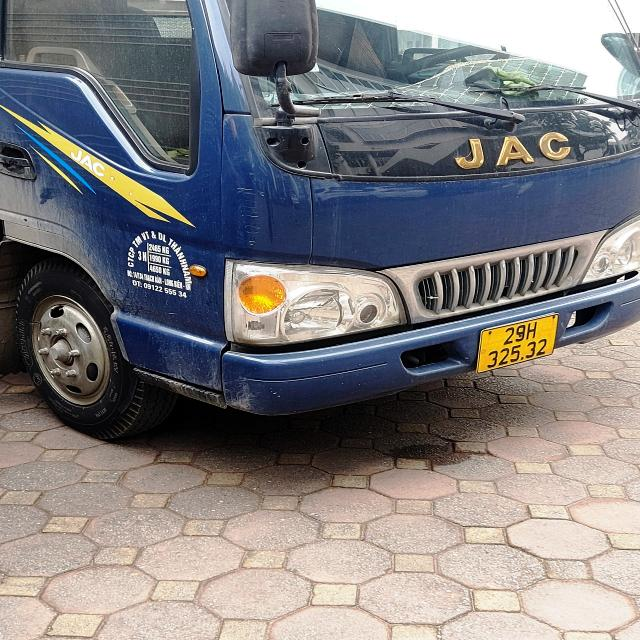license_plate: (479, 315, 558, 373)
